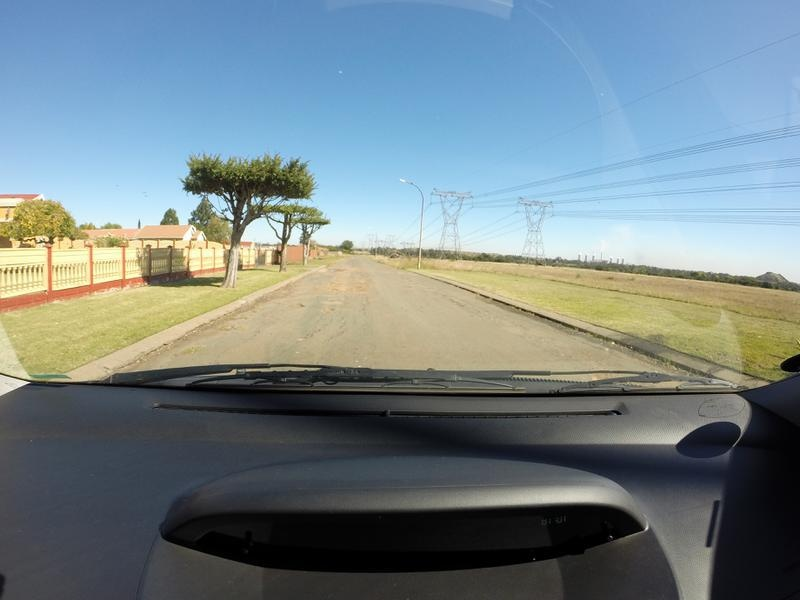pothole: (317, 283, 363, 293), (322, 299, 338, 310), (292, 302, 306, 307)
